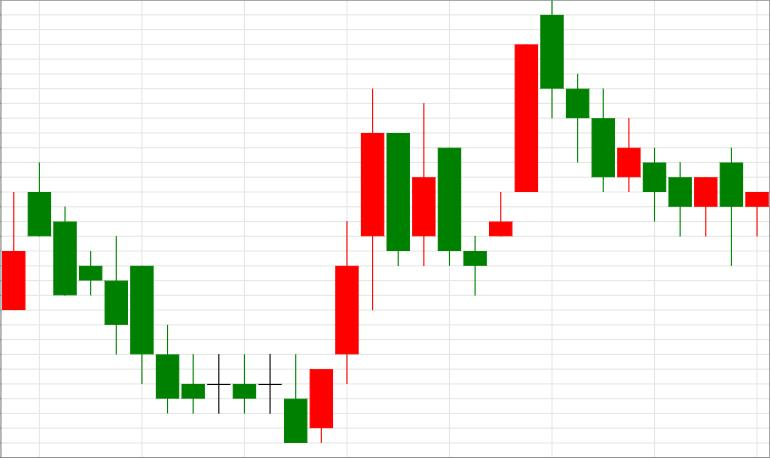three_black_crows_fall: (463, 1, 615, 296)
three_white_soldiers_rise: (28, 86, 384, 443)
